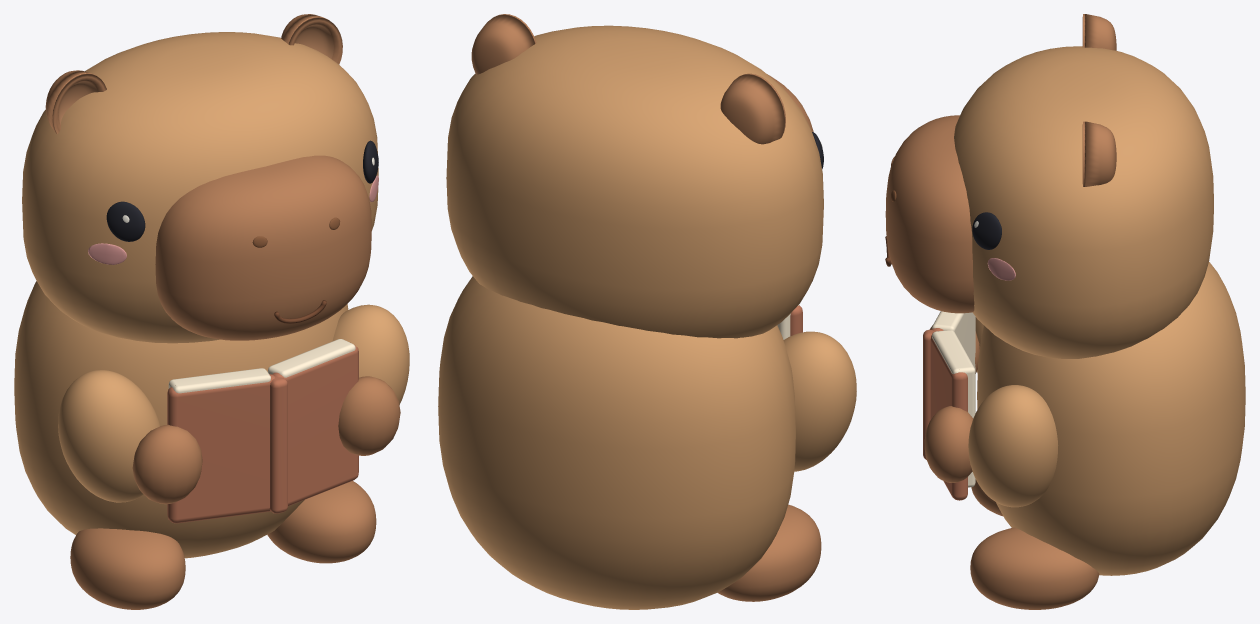
The model's file is capybara.glb.
The picture shows the model from 3 angles, left to right: view 1: azimuth 30°, elevation 25°; view 2: azimuth 150°, elevation 25°; view 3: azimuth 270°, elevation 25°; orthographic projection. The views are drawn at different scales.
Parts seen in each view (by area): view 1: Head.Mesh.002, Muzzle, Body.Mesh.002, Book.Cover.L.001, Arm.L.Mesh.002, Book.Cover.R.001, Foot.L.Mesh.002, Foot.R.Mesh.002, Paw.L.002, Arm.R.Mesh.002, Paw.R.002, Book.Spine.002 (+7 smaller); view 2: Head.Mesh.002, Body.Mesh.002, Arm.L.Mesh.002, Foot.L.Mesh.002, Ear.L.002, Ear.R.002; view 3: Head.Mesh.002, Body.Mesh.002, Muzzle, Arm.R.Mesh.002, Foot.R.Mesh.002, Paw.R.002, Book.Cover.R.001, Ear.R.002, Book.Pages.R.001, Book.Pages.L.001, Ear.L.002, Eye.R.002 (+1 smaller).
Boxes of the visible parts, box(x1,y1,x2,y2) form: Head.Mesh.002: box(22, 32, 378, 343); Muzzle: box(155, 155, 371, 340); Body.Mesh.002: box(14, 281, 348, 558); Book.Cover.L.001: box(167, 374, 274, 523); Arm.L.Mesh.002: box(58, 370, 159, 502); Book.Cover.R.001: box(272, 345, 358, 506); Foot.L.Mesh.002: box(70, 528, 185, 609); Foot.R.Mesh.002: box(267, 481, 376, 563); Paw.L.002: box(132, 424, 202, 504); Arm.R.Mesh.002: box(332, 304, 409, 404); Paw.R.002: box(338, 376, 400, 455); Book.Spine.002: box(269, 376, 287, 513); Head.Mesh.002: box(446, 25, 823, 338); Body.Mesh.002: box(438, 276, 795, 609); Arm.L.Mesh.002: box(783, 331, 856, 471); Foot.L.Mesh.002: box(718, 504, 821, 601); Ear.L.002: box(720, 73, 785, 144); Ear.R.002: box(471, 14, 536, 74); Head.Mesh.002: box(954, 46, 1213, 358); Body.Mesh.002: box(977, 262, 1245, 575); Muzzle: box(885, 115, 974, 313); Arm.R.Mesh.002: box(968, 385, 1058, 507); Foot.R.Mesh.002: box(970, 527, 1099, 609); Paw.R.002: box(924, 406, 973, 482); Book.Cover.R.001: box(930, 331, 967, 500); Ear.R.002: box(1082, 121, 1116, 186); Book.Pages.R.001: box(932, 330, 975, 487); Book.Pages.L.001: box(932, 311, 975, 370); Ear.L.002: box(1082, 14, 1116, 50); Eye.R.002: box(972, 212, 1001, 249).
Size of the model in its own units: 0.9901 by 1.42 by 0.953.
